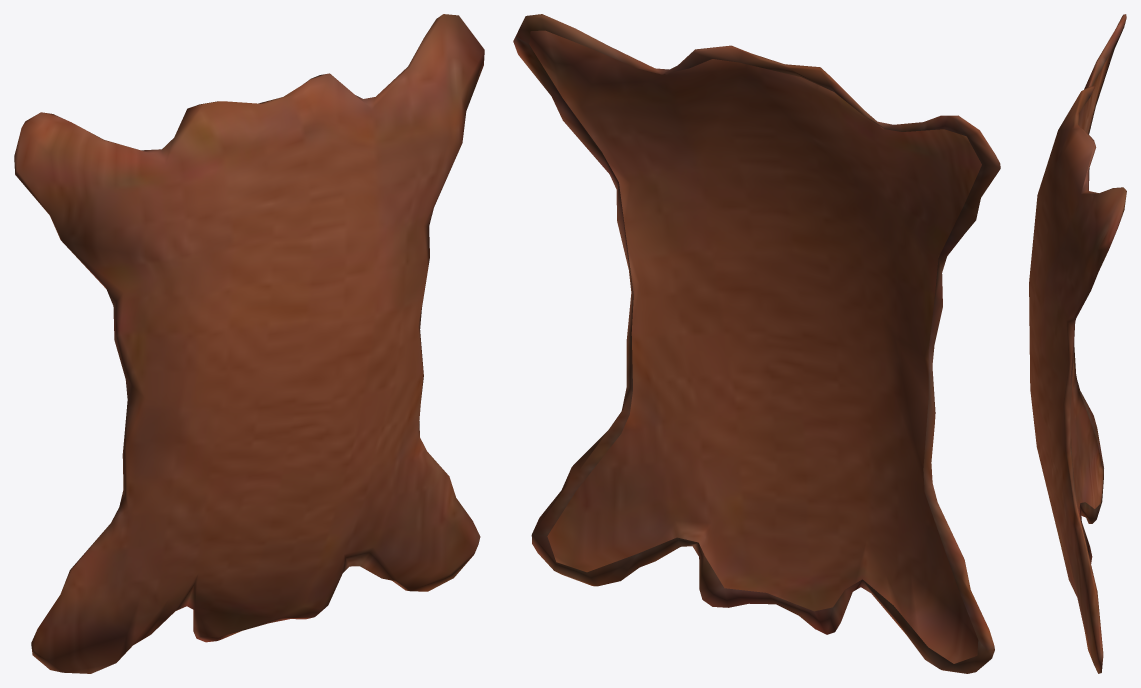
The model's file is Furs.glb.
3 renders of one model, left to right at view 1: azimuth 30°, elevation 25°; view 2: azimuth 150°, elevation 25°; view 3: azimuth 270°, elevation 25°, orthographic. The views are drawn at different scales.
Parts seen in each view (by area): view 1: low.001; view 2: low.001; view 3: low.001.
Boxes of the visible parts, <box> form: low.001: <box>14,14,484,673</box>; low.001: <box>513,14,1000,673</box>; low.001: <box>1029,14,1126,673</box>.
Bounding box in the file's own units: 2.51 × 2.84 × 0.5128.
1 material, 1 textured.
